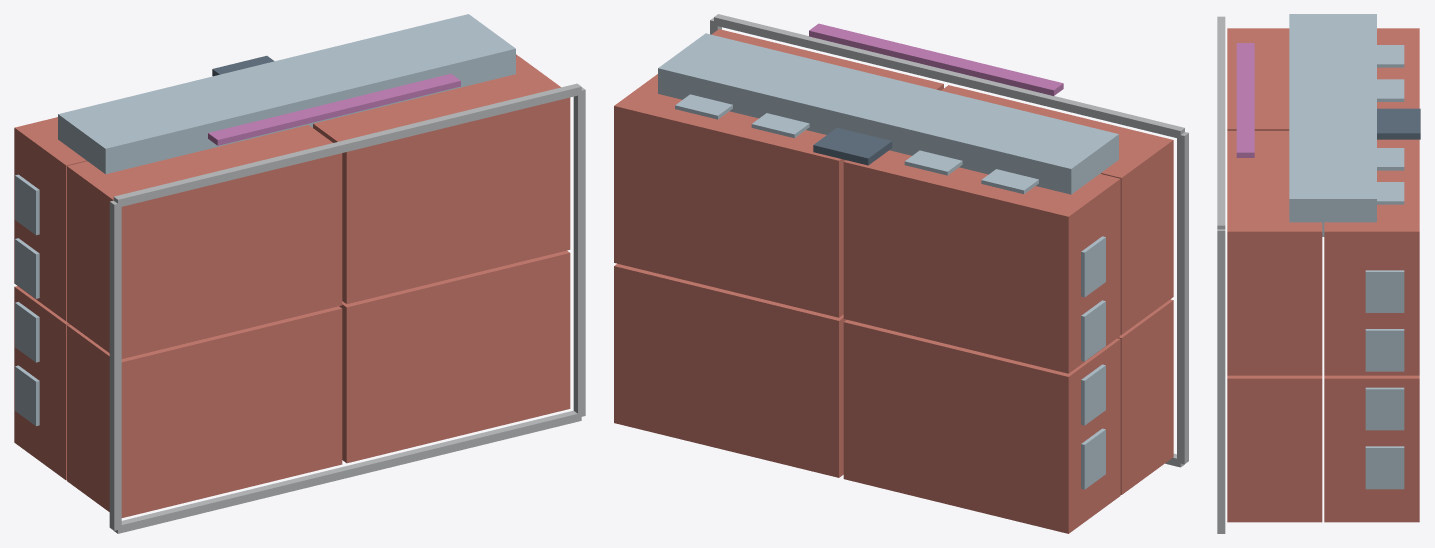
The model's file is building-diner.glb.
3 views of the same model, side by side, from view 1: azimuth 30°, elevation 25°; view 2: azimuth 150°, elevation 25°; view 3: azimuth 270°, elevation 25° (orthographic). The views are drawn at different scales.
Parts seen in each view (by area): view 1: world; view 2: world; view 3: world.
Part boxes in pixels (<box>): world: <box>14,14,585,533</box>; world: <box>614,14,1188,533</box>; world: <box>1217,14,1420,533</box>.
Bounding box in the file's own units: 15.5 × 11.29 × 6.28.
